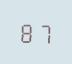eight: (19, 19, 34, 43)
seven: (35, 19, 50, 44)
